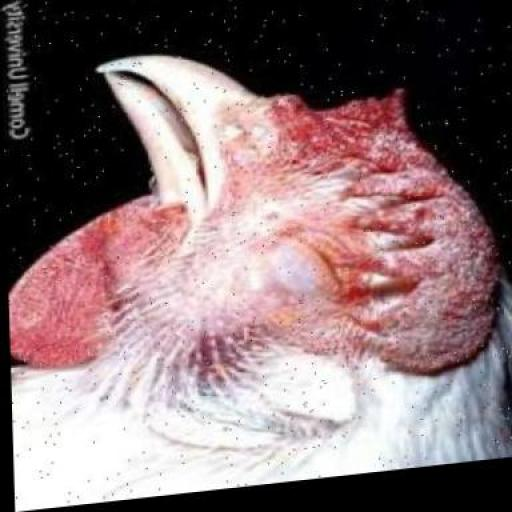disease: (272, 90, 504, 378), (136, 138, 361, 355)
